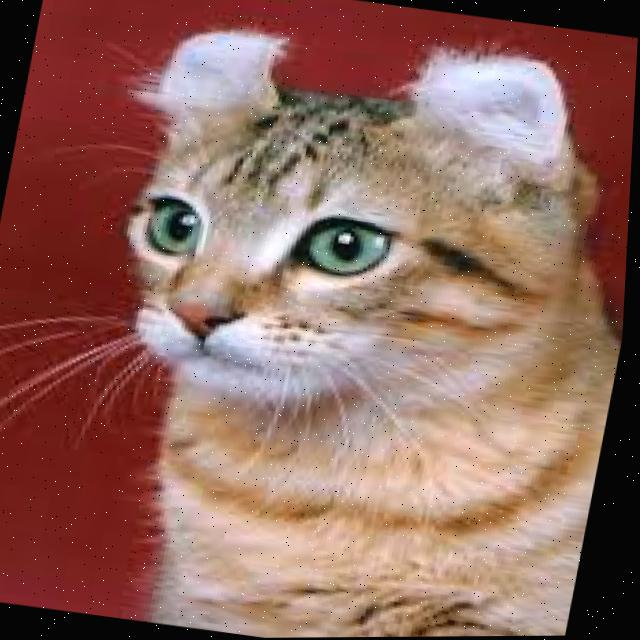American Curl: (48, 0, 640, 640)
